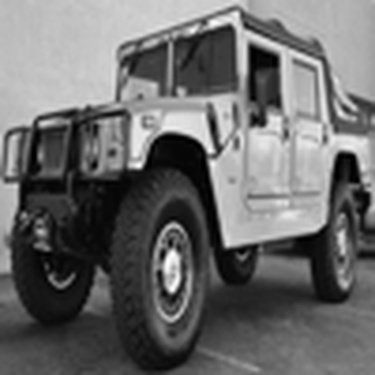car: (1, 7, 369, 369)
